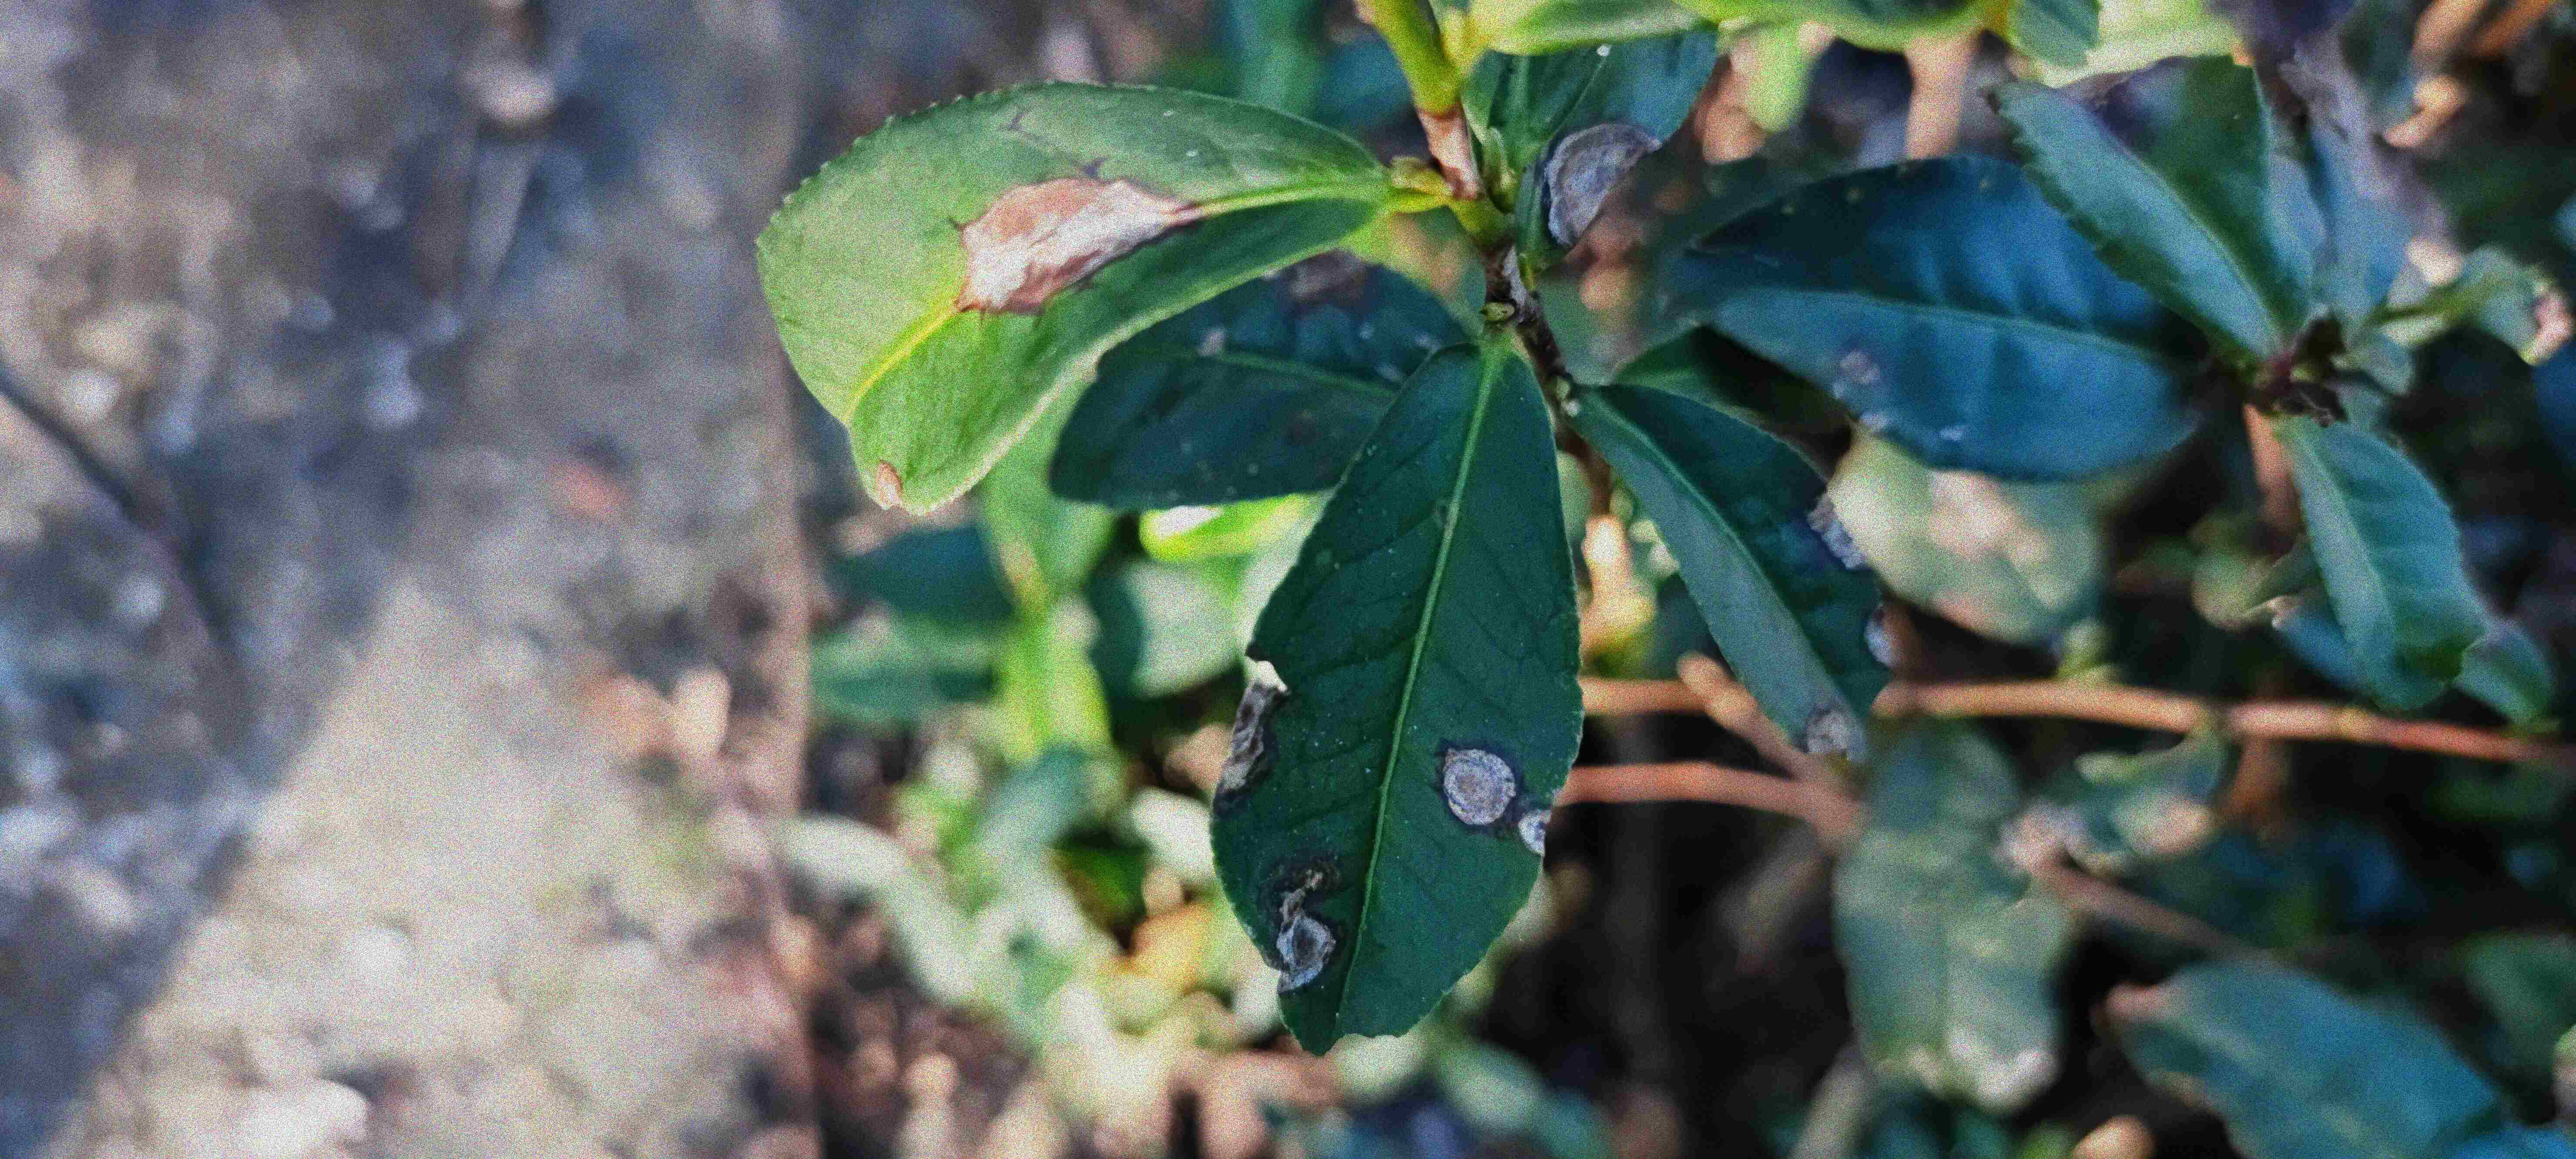chihuo_high: (1976, 56, 2316, 379)
tanju_high: (751, 77, 1411, 520), (1204, 337, 1587, 1061), (1658, 161, 2213, 483), (1571, 389, 1893, 763), (1480, 26, 1717, 271)
